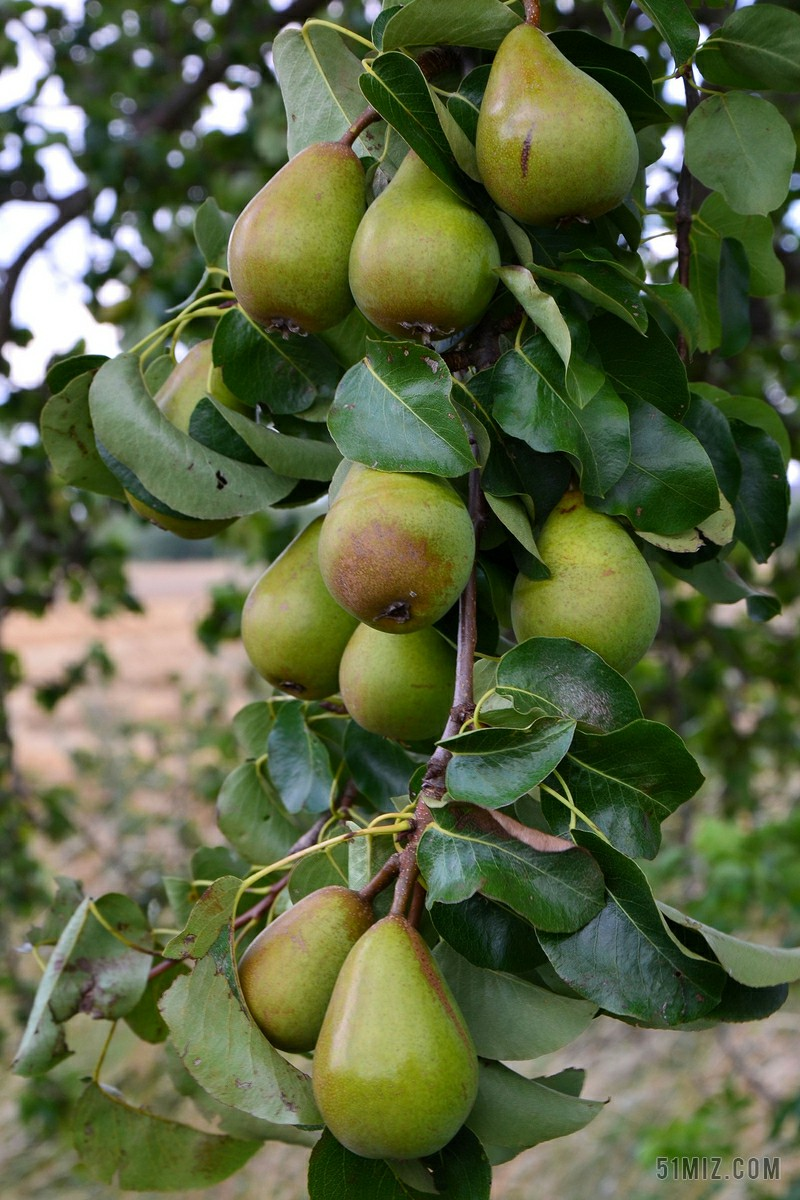pear: (311, 922, 481, 1154), (478, 21, 642, 227), (320, 426, 474, 636), (502, 490, 665, 676), (351, 140, 501, 335), (225, 143, 375, 334), (232, 878, 373, 1057), (241, 500, 363, 695), (344, 598, 446, 755)
